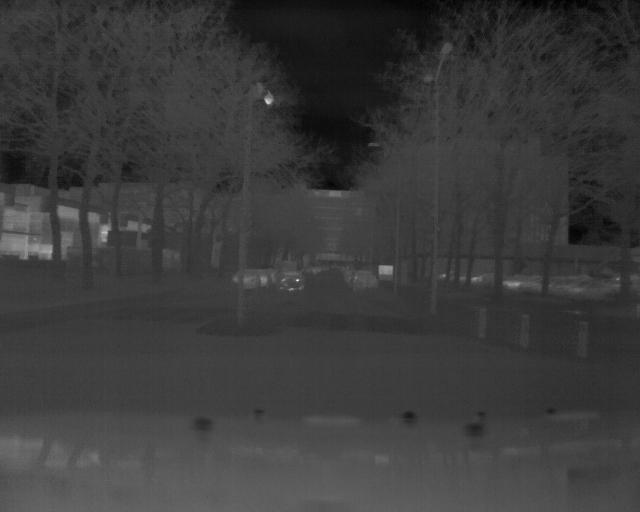car: (345, 269, 377, 294), (278, 270, 307, 294)
